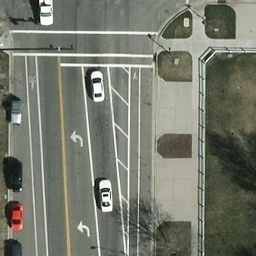car: (87, 68, 107, 103), (6, 157, 26, 191), (96, 179, 115, 214), (38, 1, 57, 25), (7, 104, 28, 125), (9, 201, 23, 231)
